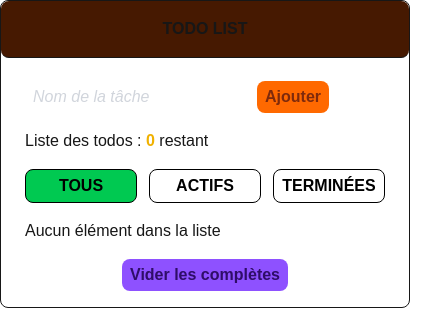
Test case: TodoList › Ajout › ajoute une todo dans la liste
Type "Coder une application" into the field at [137, 97], box [25, 81, 249, 113]
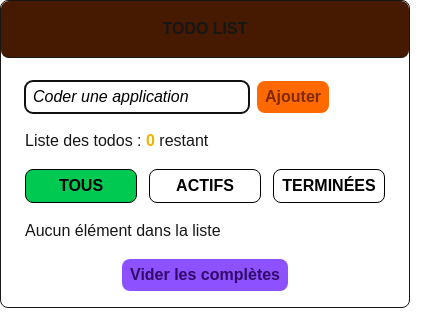
Click the button "Ajouter" at [293, 97], box [257, 81, 329, 113]
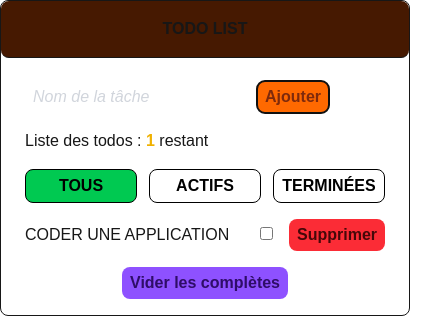
Expected: the text "Coder une application" is shown, [25, 223, 229, 247]
